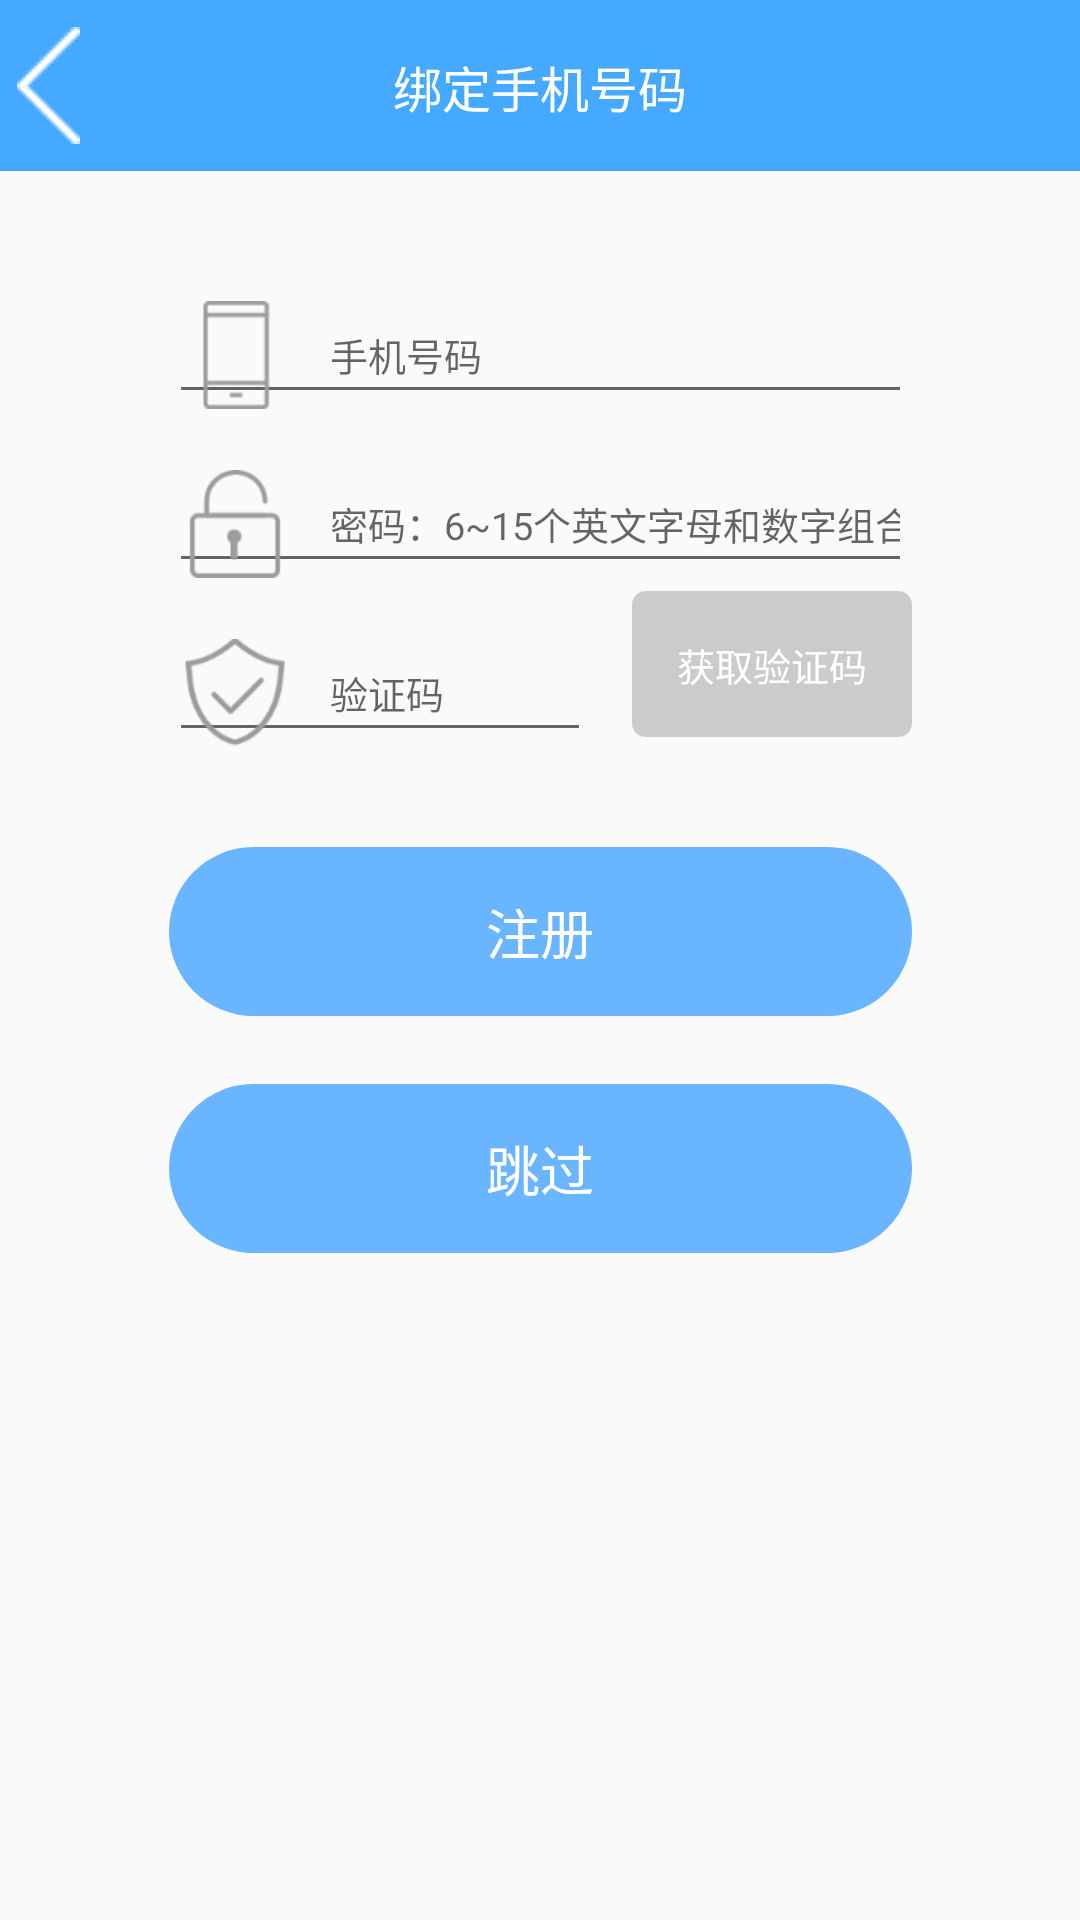

Screen size 1080px x 1920px. Icon name, then its box in pixels as (x1, y1, x2, y2):
back: (17, 27, 80, 144)
